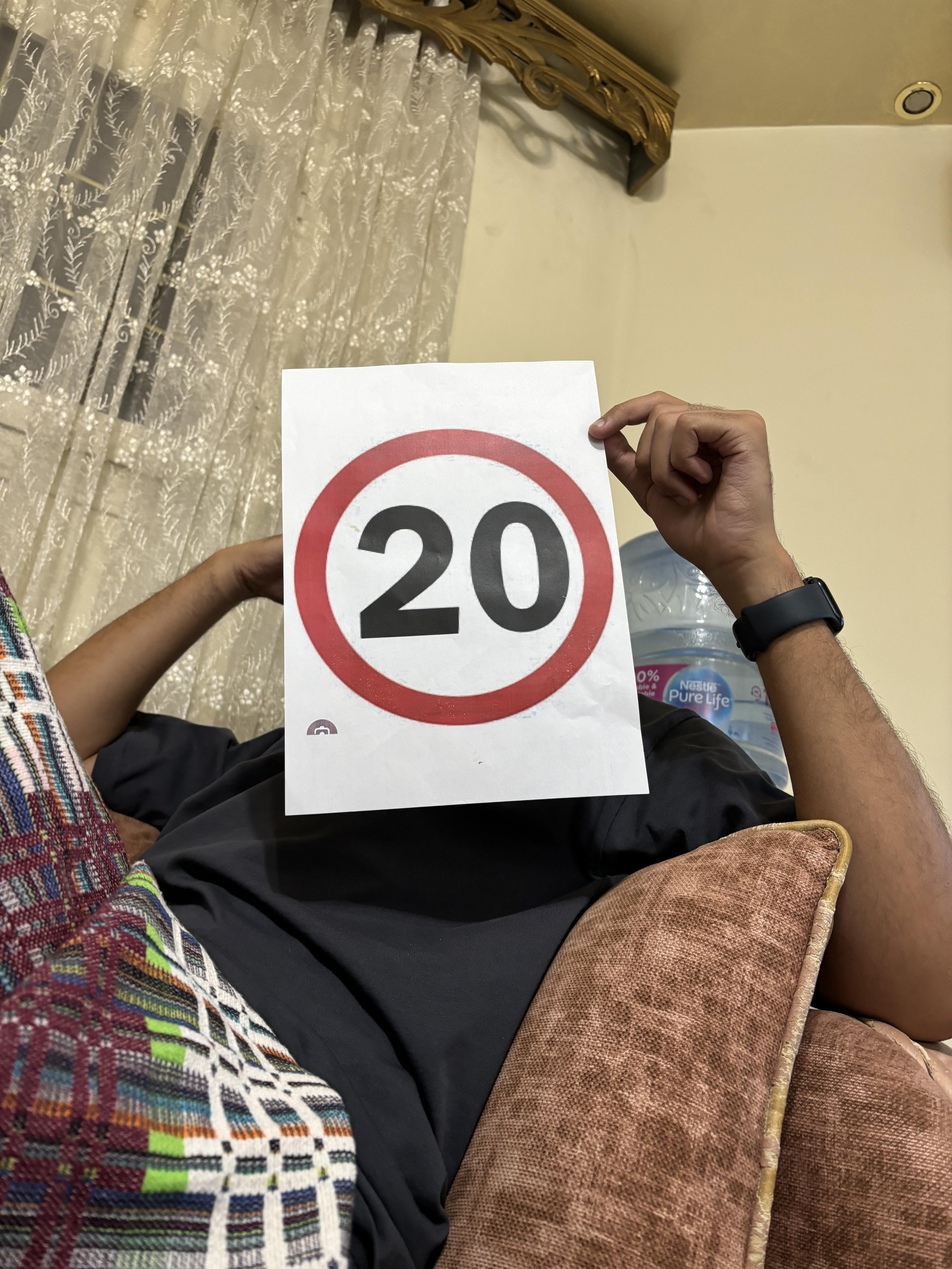20-Speed: (292, 429, 625, 723)
